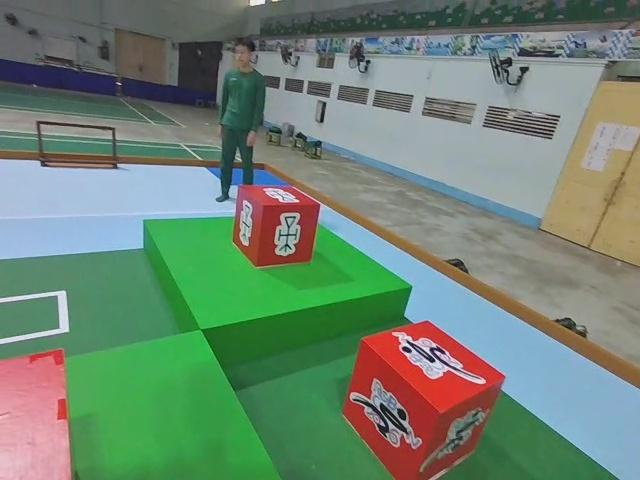R1: (342, 317, 508, 480)
R2 Real: (230, 183, 324, 271)
